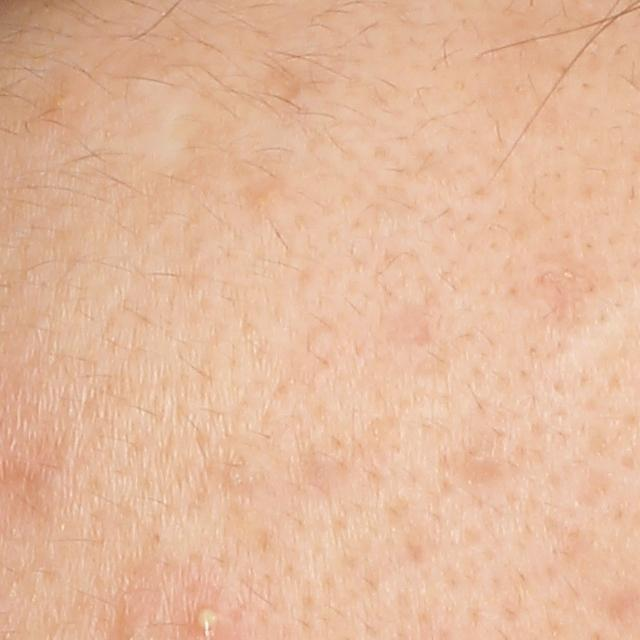other: (75, 73, 235, 188)
pustule: (190, 604, 228, 639)
